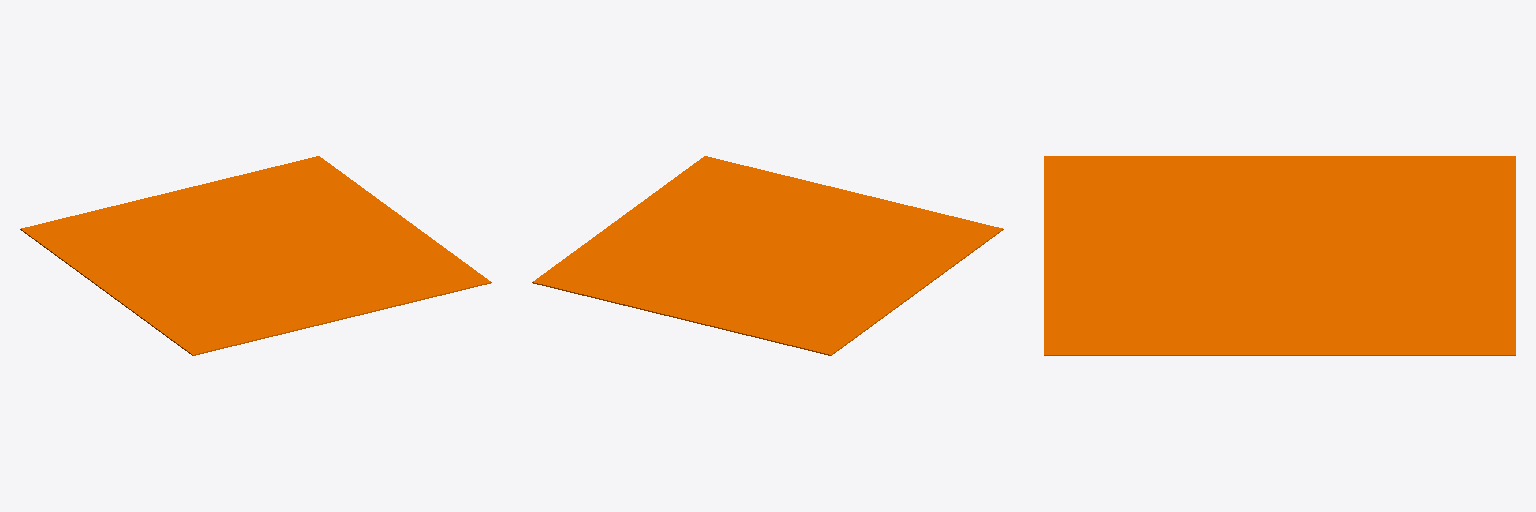
The robot description file, URDF, robot "xpaddle2D":
<robot name="xpaddle2D">
    
  <link name="base_link">
    <inertial>
      <origin rpy="0 0 0" xyz="0 0 0"/>
       <mass value="0"/>
       <inertia ixx="0" ixy="0" ixz="0" iyy="0" iyz="0" izz="0"/>
    </inertial>
  </link>

  <link name="x_link">
    <inertial>
      <origin rpy="0 0 0" xyz="0 0 0"/>
       <mass value="0.0001"/>
       <inertia ixx="0.0001" ixy="0" ixz="0" iyy="0.0001" iyz="0" izz="0.0001"/>
    </inertial>
  </link>


  <link name="y_link">
    <inertial>
      <origin rpy="0 0 0" xyz="0 0 0"/>
       <mass value="0.0001"/>
       <inertia ixx="0.0001" ixy="0" ixz="0" iyy="0.0001" iyz="0" izz="0.0001"/>
    </inertial>
  </link>


  <link name="theta_link">
    <inertial>
      <origin rpy="0 0 0" xyz="0 0 0"/>
       <mass value="1.0"/>
       <inertia ixx="0.0001" ixy="0" ixz="0" iyy="0.0001" iyz="0" izz="0.0001"/>
    </inertial>

    <visual>
      <origin rpy="0 0 0" xyz="0 0 0"/>
      <geometry>
        <box size="50 50 0.2" />      
      </geometry>
      <material name="white">
        <color rgba="1 0.5 0 1"/>
      </material>
    </visual>
    
    <collision>
      <origin rpy="0 0 0" xyz="0 0 0"/>
      <geometry>
        <box size="50 50 0.2" />
      </geometry>
    </collision>
  </link>

  <joint name = "x_prismatic" type = "prismatic">
    <origin xyz = "0.0 0.0 0.0" rpy = "0 0 0"/> 
    <parent link = "base_link"/>
    <child link= "x_link"/>
    <axis xyz = "1 0 0"/>
    <limit effort="1.0" lower="-10000" upper="10000" velocity="10000" />
    <dynamics damping = "0.0" friction="0.0" />
  </joint>

  <joint name = "y_prismatic" type = "prismatic">
    <origin xyz = "0.0 0.0 0.0" rpy = "0 0 0"/> 
    <parent link = "x_link" />
    <child link= "y_link"/>
    <axis xyz = "0 1 0" />
    <limit effort="1.0" lower="-10000" upper="10000" velocity="10000" />
    <dynamics damping = "0.0" friction="0.0" />
  </joint>

   <joint name = "theta_revolute" type = "revolute">
    <origin xyz = "0.0 0.0 0.0" rpy = "0 0 0"/> 
    <parent link = "y_link" />
    <child link= "theta_link"/>
    <axis xyz = "0 0 1" />
    <limit effort="1.0" lower="-10000" upper="10000" velocity="10000" />
    <dynamics damping = "0.0" friction="0.0" />
  </joint>

    
</robot>

--- Facts derived from the render (not from the file) ---
The picture shows the robot from 3 angles, left to right: view 1: azimuth 30°, elevation 25°; view 2: azimuth 150°, elevation 25°; view 3: azimuth 270°, elevation 25°; orthographic projection.
Model xpaddle2D with 4 links and 3 joints (1 revolute, 2 prismatic), rooted at base_link, posed all joints at 0.
Visible links, largest first — view 1: theta_link; view 2: theta_link; view 3: theta_link.
Boxes of the visible links, bbox=[...] form: theta_link: bbox=[20, 156, 491, 355]; theta_link: bbox=[532, 156, 1003, 355]; theta_link: bbox=[1044, 156, 1515, 355].
Size in the robot's own frame: 50 by 50 by 0.2 metres.
Geometry: primitives only (box / cylinder / sphere), no mesh files.
